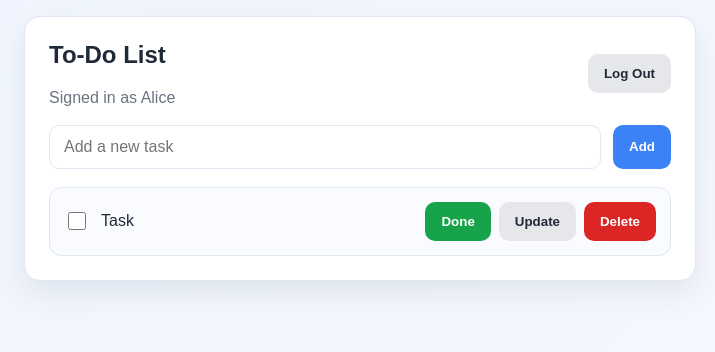
Scenario: shows a mutation error without losing the task
Expected: the text "Task" is shown, [101,212,134,230]
Click the button "Done" at (458,221), box [426,202,491,241]
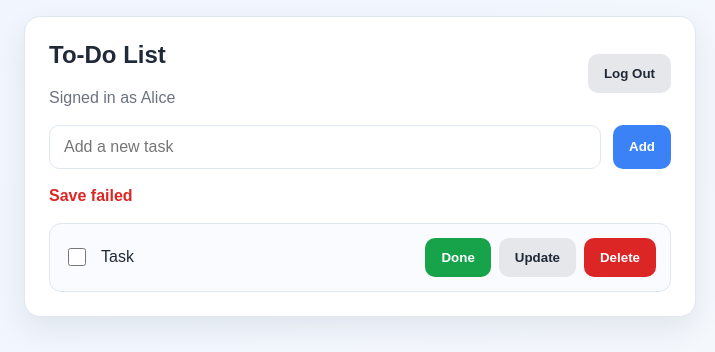
Expected: the checkbox named "Mark Task complete" is not checked, [68,248,86,266]
Now the message reads "Save failed", box [49,187,133,204]
